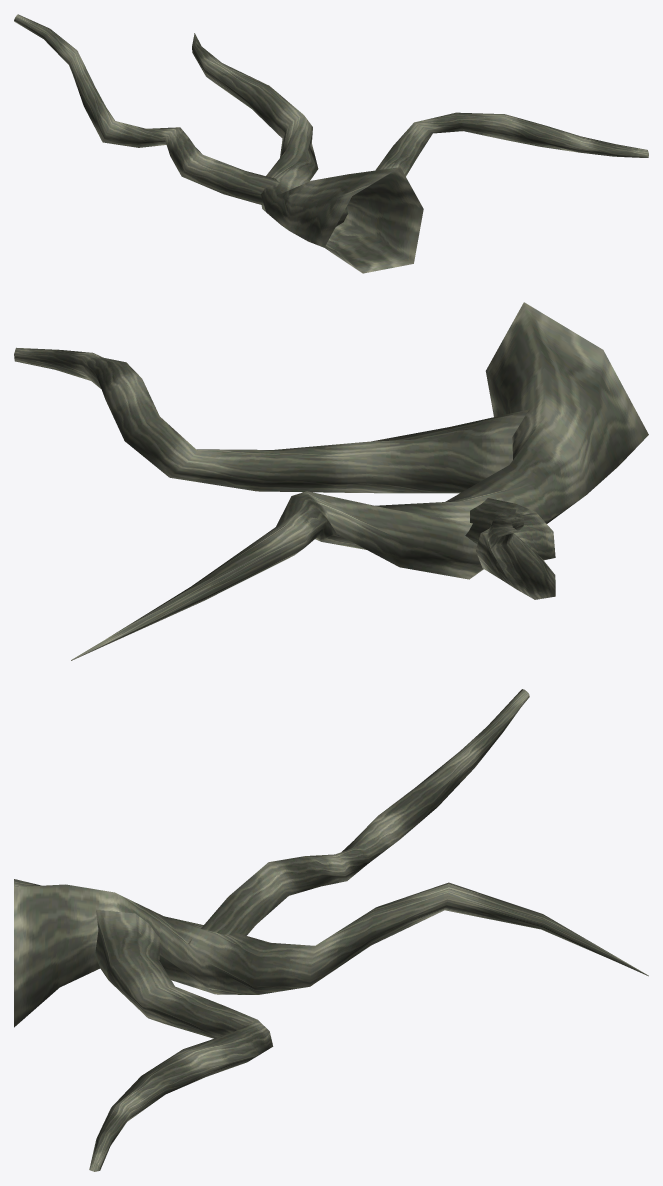
File: INST_SWORDLIGHT_ROOTB.fbx
The picture shows the model from 3 angles, top to bottom: view 1: azimuth 30°, elevation 25°; view 2: azimuth 150°, elevation 25°; view 3: azimuth 270°, elevation 25°; orthographic projection. The views are drawn at different scales.
Visible parts, largest first — view 1: INST_SWORDLIGHT_ROOTB; view 2: INST_SWORDLIGHT_ROOTB; view 3: INST_SWORDLIGHT_ROOTB.
Part boxes in pixels (<box>): INST_SWORDLIGHT_ROOTB: <box>14,14,648,273</box>; INST_SWORDLIGHT_ROOTB: <box>14,302,648,660</box>; INST_SWORDLIGHT_ROOTB: <box>14,689,648,1171</box>.
Size of the model in its own units: 64743 by 20930 by 57240.
Materials: 1 (1 with a texture image).
